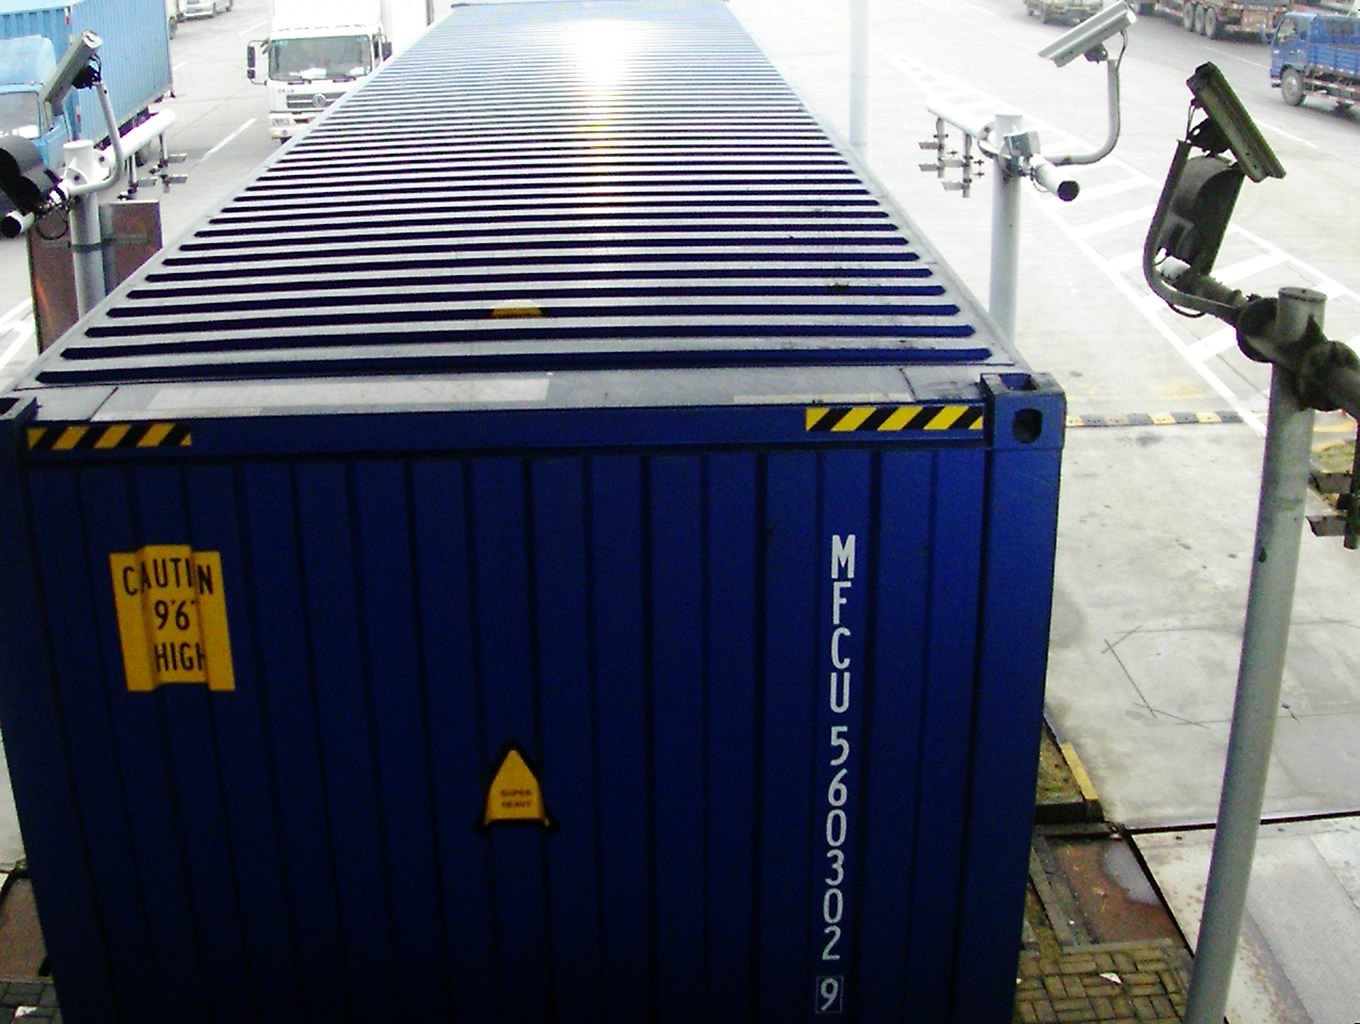words: (817, 525, 861, 1020)
